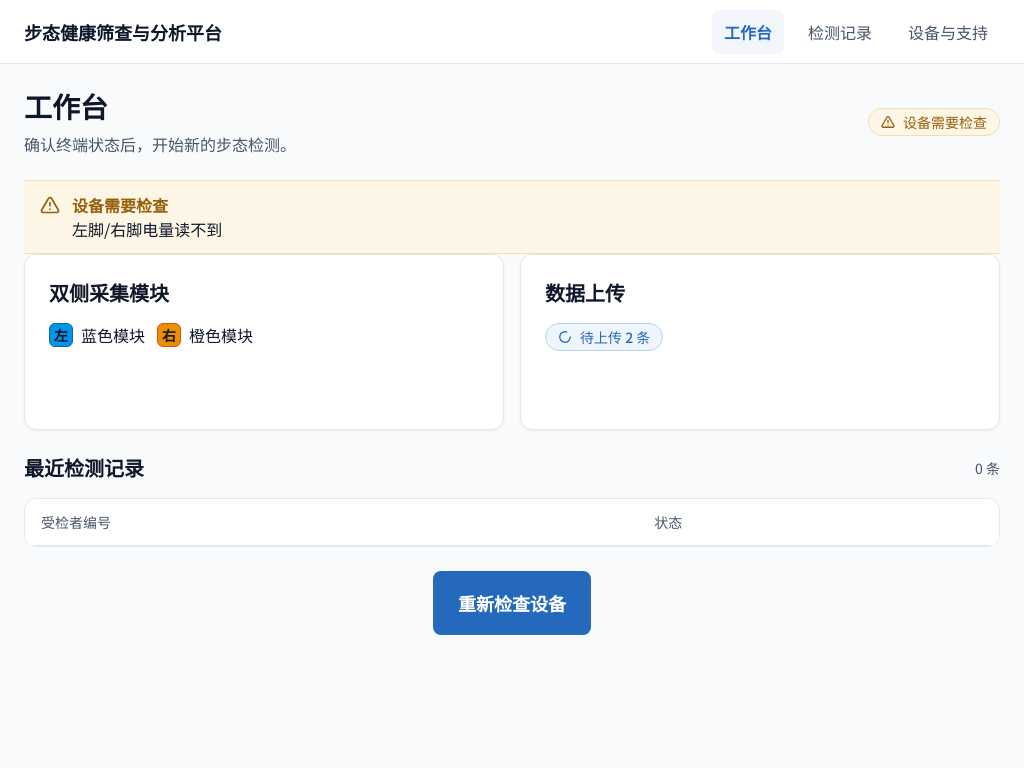
Test: B2：重新检查设备失败要说出来 › 提示可以手动关闭
The image size is (1024, 768).
What coordinates should you click on to do the following:
click the button "重新检查设备"
I would click on:
 (512, 603)
Its box is top-left (433, 571), bottom-right (591, 635).
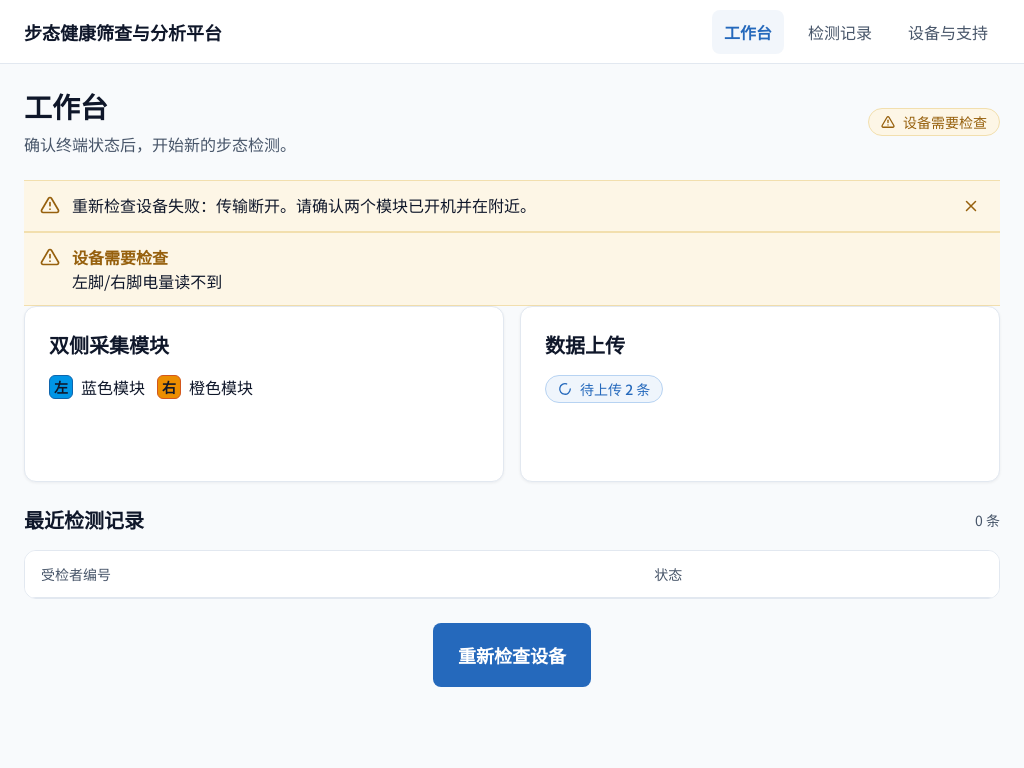
What coordinates should you click on to do the following:
click the button named "关闭"
I would click on:
 (971, 206)
Its box is top-left (958, 193), bottom-right (984, 219).
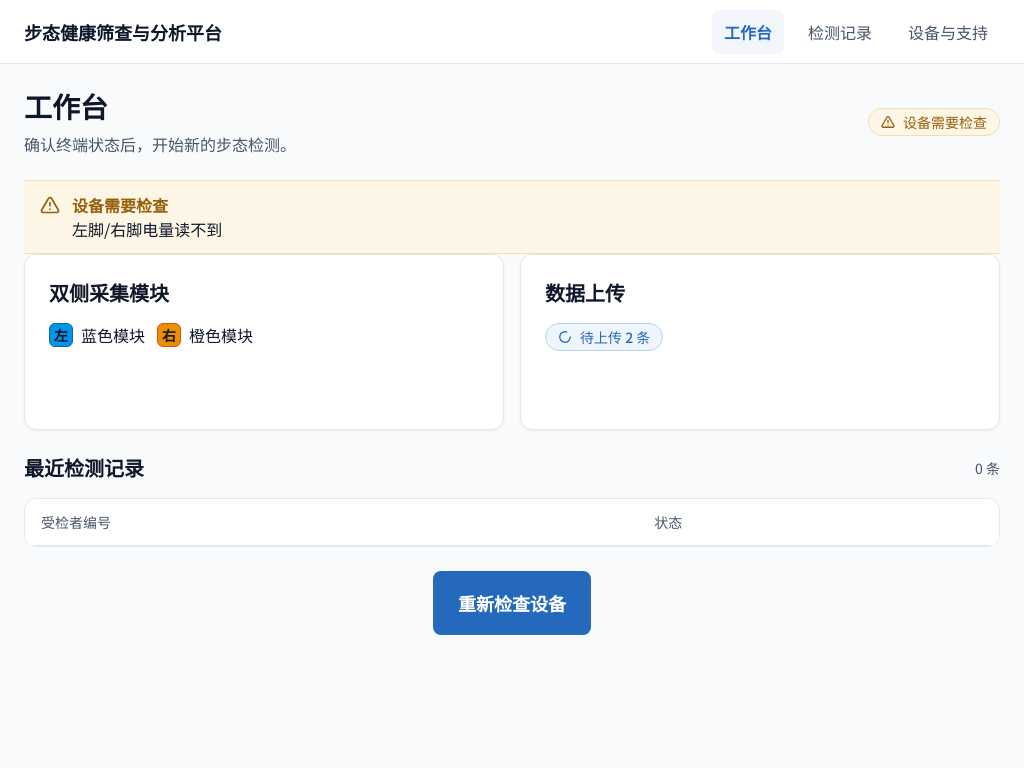
Check: the text "重新检查设备失败" is gone
